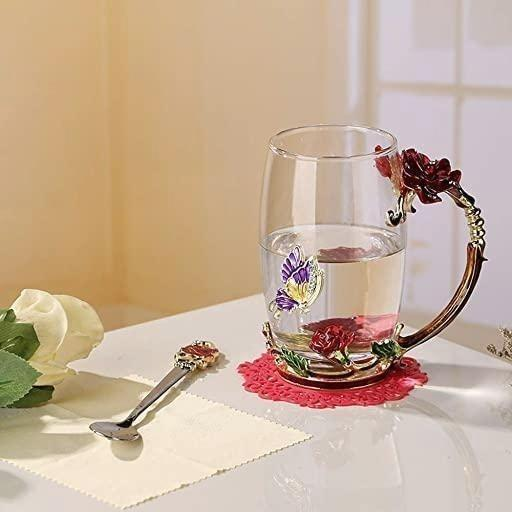glass-mug: (258, 121, 495, 390)
